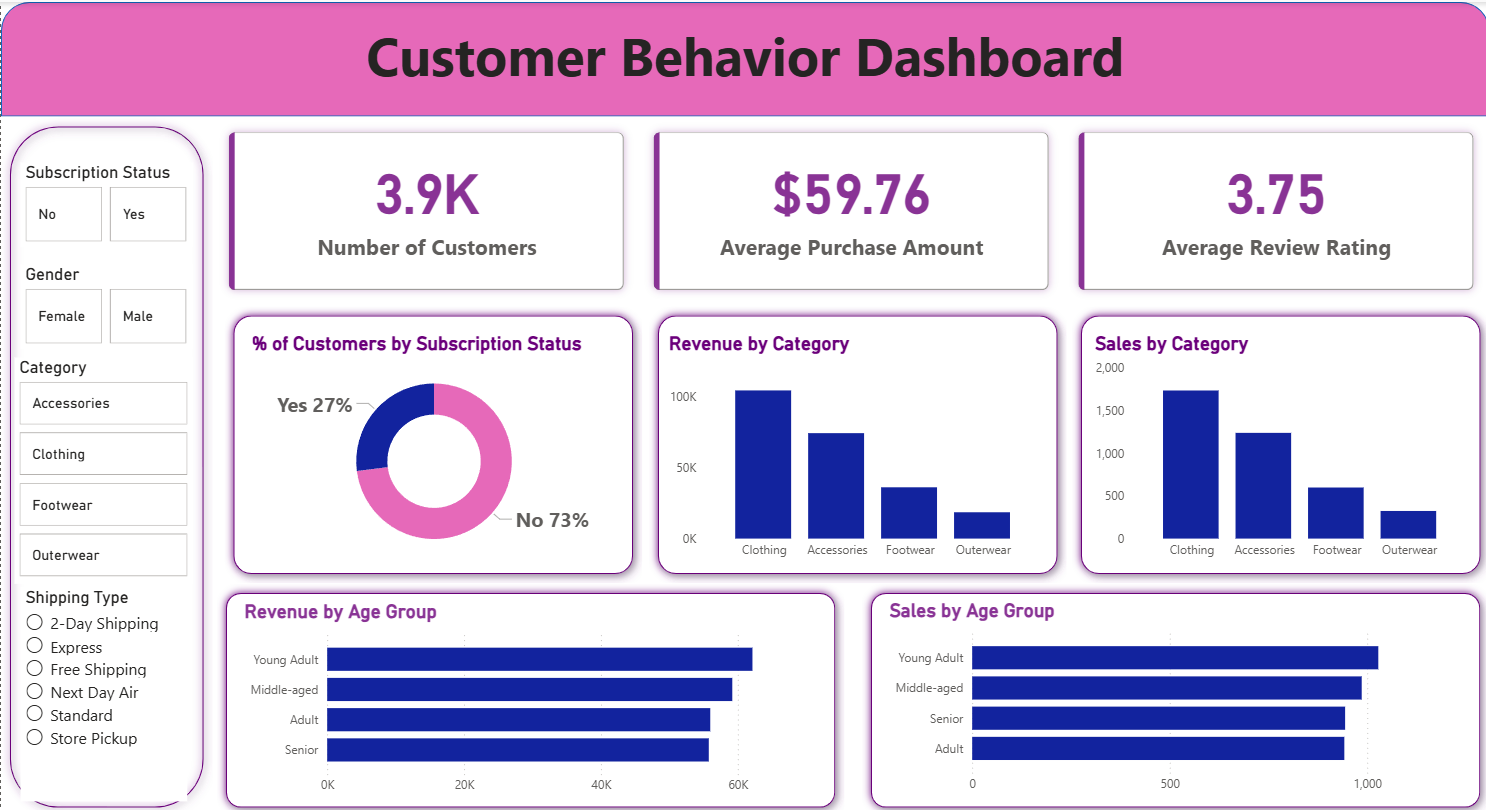

What the dashboard file says about the page in this screenshot:
{"tool":"powerbi","page":{"name":"Page 1","canvas":[1500,820],"ordinal":0},"visuals":[{"type":"cardVisual","fields":{"Data":["public customer.Number of Customers","public customer.Average Purchase Amount","public customer.Average Review Rating"]},"box":[212.9,115.3,1286.5,191.6],"z":2000},{"type":"shape","box":[218.3,585.6,631.7,234.2],"z":2500,"group":"g1"},{"type":"shape","box":[0,0,1499.4,115.3],"z":3000},{"type":"textbox","box":[0,12.4,1499.4,102.9],"z":4000},{"type":"shape","box":[225.4,307,420.5,278.6],"z":5000},{"type":"donutChart","title":"% of Customers by Subscription Status","fields":{"Category":["public customer.subscription_status"],"Y":["CountNonNull(public customer.customer_id)"]},"box":[248.4,331.8,376.2,237.8],"z":6000},{"type":"shape","box":[1078.9,307,420.5,278.6],"z":7000},{"type":"shape","box":[652.1,307,420.5,278.6],"z":8000},{"type":"clusteredColumnChart","title":"Revenue by Category","fields":{"Y":["Sum(public customer.purchase_amount)"],"Category":["public customer.category"]},"box":[667.2,331.8,385.1,237.8],"z":9000},{"type":"clusteredColumnChart","title":"Sales by Category","fields":{"Y":["CountNonNull(public customer.customer_id)"],"Category":["public customer.category"]},"box":[1096.6,331.8,385.1,237.8],"z":10000},{"type":"shape","box":[0,116.4,213.1,704.2],"z":11000},{"type":"advancedSlicerVisual","fields":{"Values":["public customer.subscription_status"]},"box":[19.5,161.5,173.9,85.2],"z":12000},{"type":"advancedSlicerVisual","fields":{"Values":["public customer.gender"]},"box":[19.5,264.4,173.9,85.2],"z":13000},{"type":"advancedSlicerVisual","fields":{"Values":["public customer.category"]},"box":[14,358,179,228],"z":14000},{"type":"listSlicer","fields":{"Values":["public customer.shipping_type"]},"box":[19.6,589.3,167.7,216.1],"z":15000},{"type":"shape","box":[867.7,585.6,631.7,234.2],"z":16000},{"type":"clusteredBarChart","title":"Sales by Age Group","fields":{"Y":["CountNonNull(public customer.customer_id)"],"Category":["public customer.age_group"]},"box":[890.8,601.5,585.6,204.1],"z":17000},{"type":"clusteredBarChart","title":"Revenue by Age Group","fields":{"Y":["Sum(public customer.purchase_amount)"],"Category":["public customer.age_group"]},"box":[241.4,601.6,585.6,204.1],"z":17500,"group":"g1"},{"type":"group","id":"g1","title":"Group 1","box":[218.3,585.6,631.7,234.2],"z":17501}]}

Visuals, with their boxes in screenshot pixels (x1, y1, x2, y2), scaled from the page's 1500x820 canvas onto the 1486x810 screenshot:
cardVisual - public customer.Number of Customers x public customer.Average Purchase Amount: <bbox>211, 114, 1485, 303</bbox>
shape: <bbox>216, 578, 842, 809</bbox>
shape: <bbox>0, 0, 1485, 114</bbox>
textbox: <bbox>0, 12, 1485, 114</bbox>
shape: <bbox>223, 303, 640, 578</bbox>
"% of Customers by Subscription Status" donutChart: <bbox>246, 328, 619, 563</bbox>
shape: <bbox>1069, 303, 1485, 578</bbox>
shape: <bbox>646, 303, 1063, 578</bbox>
"Revenue by Category" clusteredColumnChart: <bbox>661, 328, 1042, 563</bbox>
"Sales by Category" clusteredColumnChart: <bbox>1086, 328, 1468, 563</bbox>
shape: <bbox>0, 115, 211, 809</bbox>
advancedSlicerVisual - public customer.subscription_status: <bbox>19, 160, 192, 244</bbox>
advancedSlicerVisual - public customer.gender: <bbox>19, 261, 192, 345</bbox>
advancedSlicerVisual - public customer.category: <bbox>14, 354, 191, 579</bbox>
listSlicer - public customer.shipping_type: <bbox>19, 582, 186, 796</bbox>
shape: <bbox>860, 578, 1485, 809</bbox>
"Sales by Age Group" clusteredBarChart: <bbox>882, 594, 1463, 796</bbox>
"Revenue by Age Group" clusteredBarChart: <bbox>239, 594, 819, 796</bbox>
"Group 1" group: <bbox>216, 578, 842, 809</bbox>
